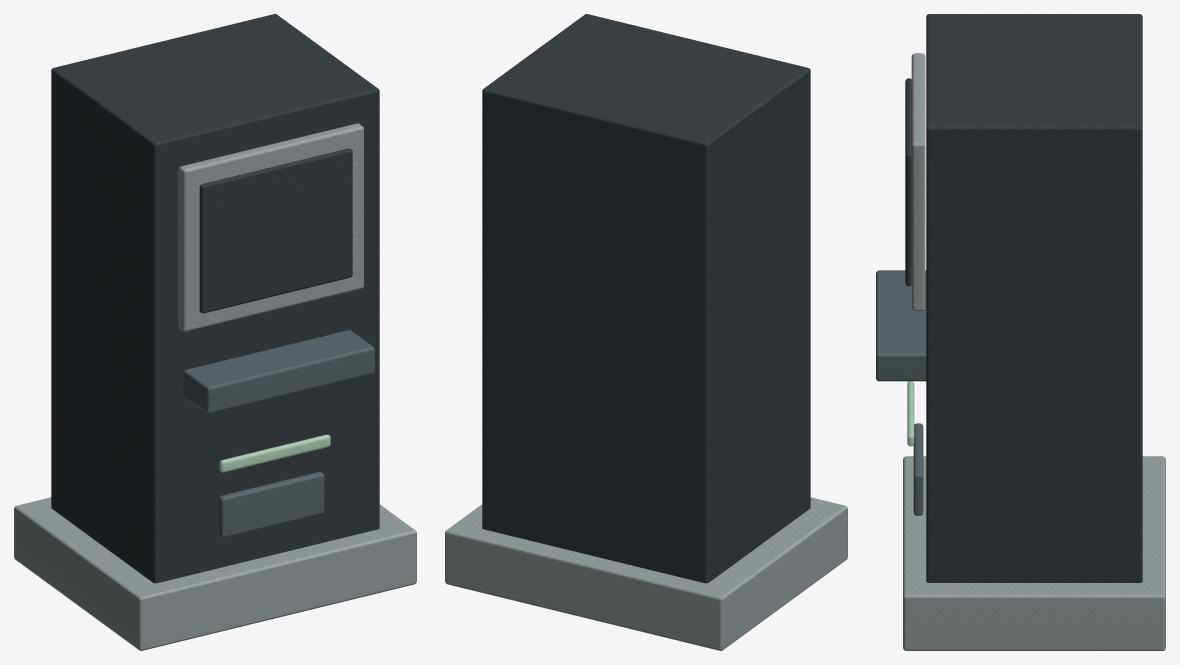
The model's file is ArchiveTerminal.glb.
3 renders of one model, left to right at view 1: azimuth 30°, elevation 25°; view 2: azimuth 150°, elevation 25°; view 3: azimuth 270°, elevation 25°, orthographic. The views are drawn at different scales.
Parts seen in each view (by area): view 1: ArchiveTerminal_Mesh; view 2: ArchiveTerminal_Mesh; view 3: ArchiveTerminal_Mesh.
Boxes of the visible parts, bbox=[...] form: ArchiveTerminal_Mesh: bbox=[14, 14, 416, 650]; ArchiveTerminal_Mesh: bbox=[445, 14, 847, 650]; ArchiveTerminal_Mesh: bbox=[876, 14, 1165, 650].
Bounding box in the file's own units: 0.86 × 1.46 × 0.75.
4 materials, 4 textured.
